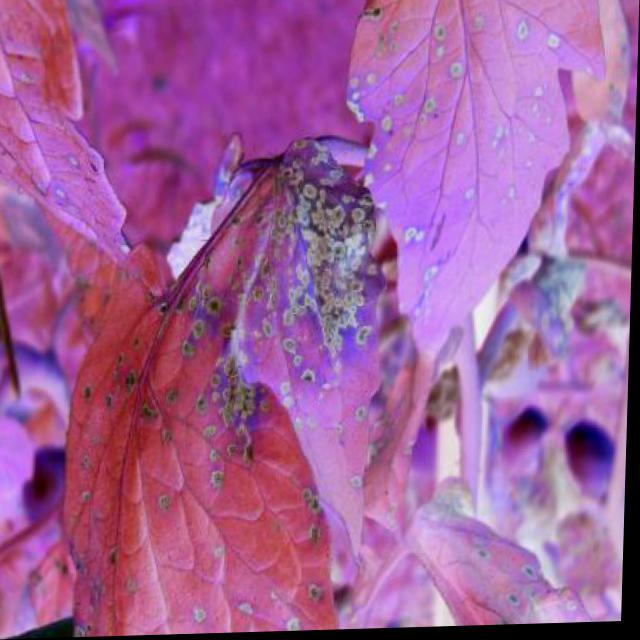Tomato Septoria spot leaf: (65, 134, 384, 636), (327, 0, 608, 375)
